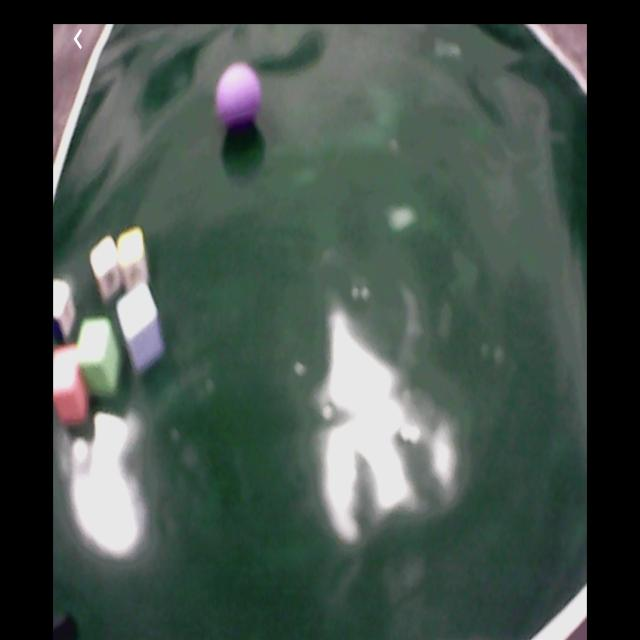ball: (218, 63, 264, 132)
